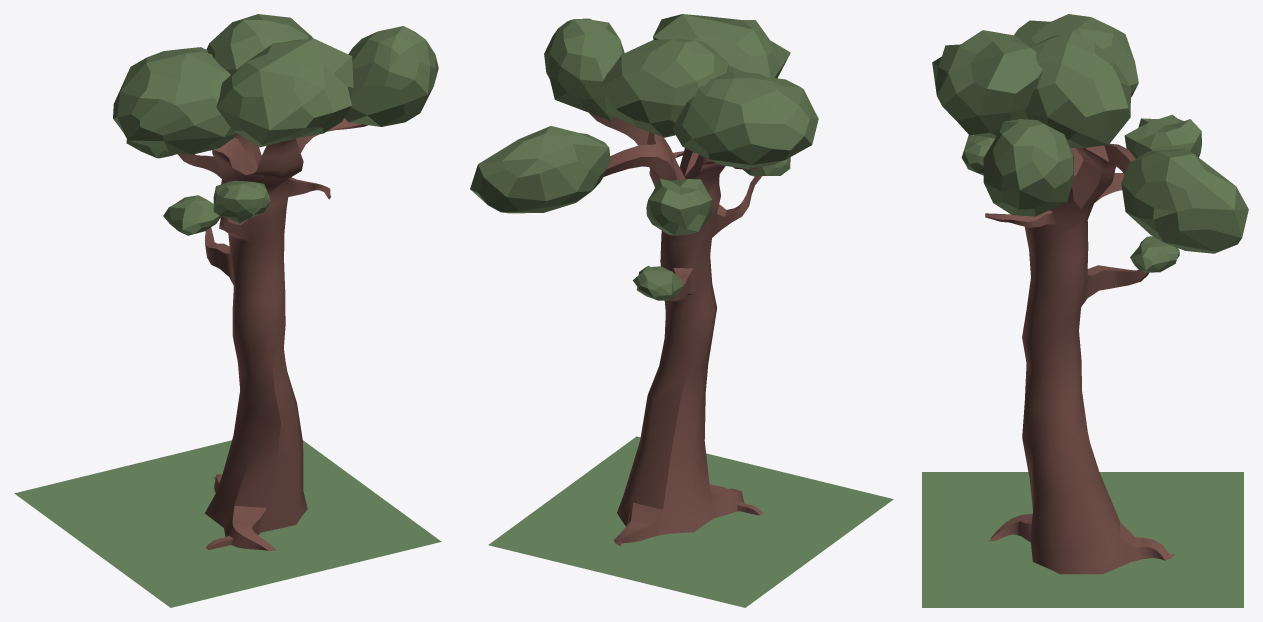
Rendered from tree2.fbx.
3 renders of one model, left to right at view 1: azimuth 30°, elevation 25°; view 2: azimuth 150°, elevation 25°; view 3: azimuth 270°, elevation 25°, orthographic. The views are drawn at different scales.
Visible parts, largest first — view 1: Live_tree_comp_tile_2; view 2: Live_tree_comp_tile_2; view 3: Live_tree_comp_tile_2.
Boxes of the visible parts, box(x1,y1,x2,y2) form: Live_tree_comp_tile_2: box(14, 14, 441, 607); Live_tree_comp_tile_2: box(470, 14, 893, 607); Live_tree_comp_tile_2: box(922, 14, 1248, 607).
Size of the model in its own units: 2.33 by 3.63 by 2.03.
